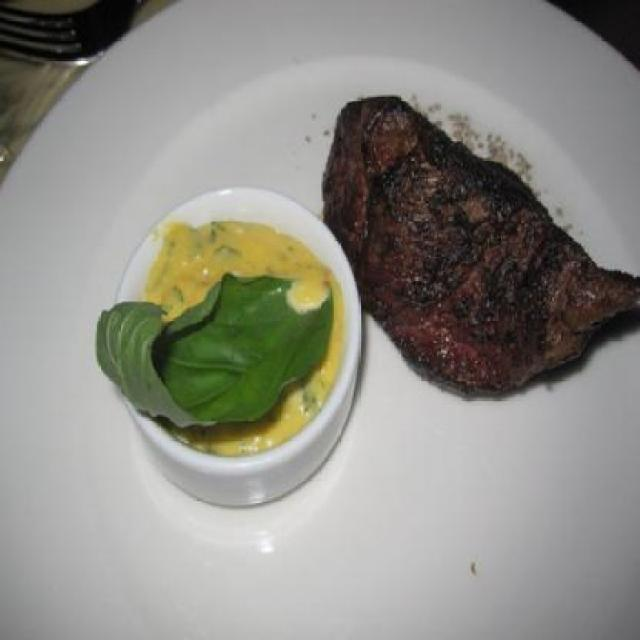Steak: (328, 95, 640, 392)
